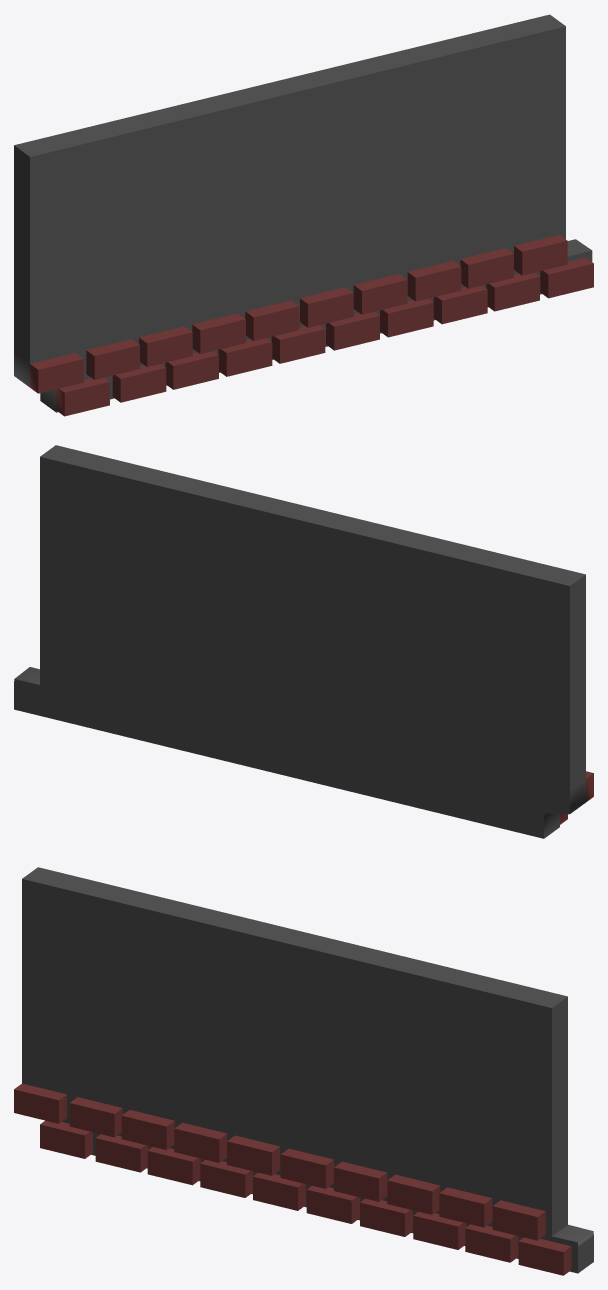
File: parede.fbx
3 views of the same model, one above another, from view 1: azimuth 30°, elevation 25°; view 2: azimuth 150°, elevation 25°; view 3: azimuth 330°, elevation 25° (orthographic).
Visible parts, largest first — view 1: pCube8; view 2: pCube8; view 3: pCube8.
Part boxes in pixels (box(x1,y1,x2,y2)): pCube8: box(14, 14, 593, 416); pCube8: box(14, 445, 593, 838); pCube8: box(14, 867, 593, 1275).
Bounding box in the file's own units: 11.33 × 5.05 × 0.8487.
